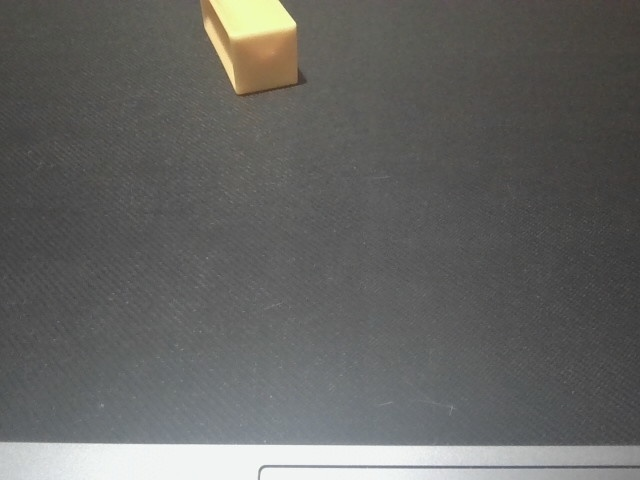YellowSample: (197, 1, 304, 98)
